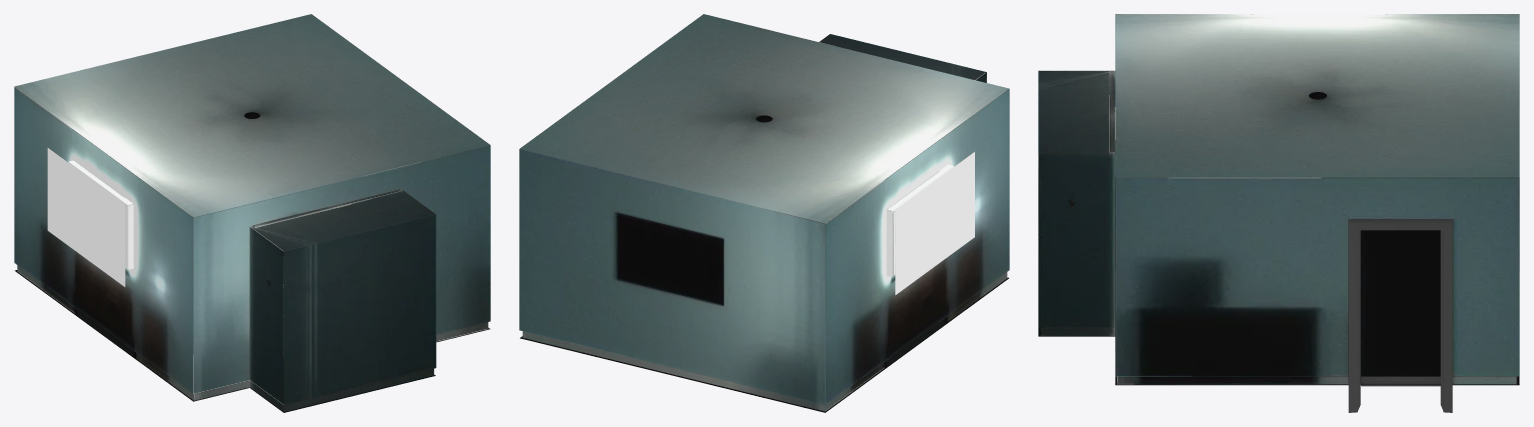
File: bedroom.glb
The picture shows the model from 3 angles, left to right: view 1: azimuth 30°, elevation 25°; view 2: azimuth 150°, elevation 25°; view 3: azimuth 270°, elevation 25°; orthographic projection. The views are drawn at different scales.
Parts seen in each view (by area): view 1: Cube_0, Cube.016_0; view 2: Cube_0, Cube.016_0; view 3: Cube_0, door1_0.
Part boxes in pixels (x1,y1,x2,y2): Cube_0: (14, 14, 490, 412); Cube.016_0: (47, 148, 125, 286); Cube_0: (519, 14, 1009, 412); Cube.016_0: (895, 152, 974, 294); Cube_0: (1038, 14, 1519, 385); door1_0: (1348, 219, 1452, 412).
Size of the model in its own units: 4.73 by 2.89 by 5.44.
11 materials, 10 textured.
